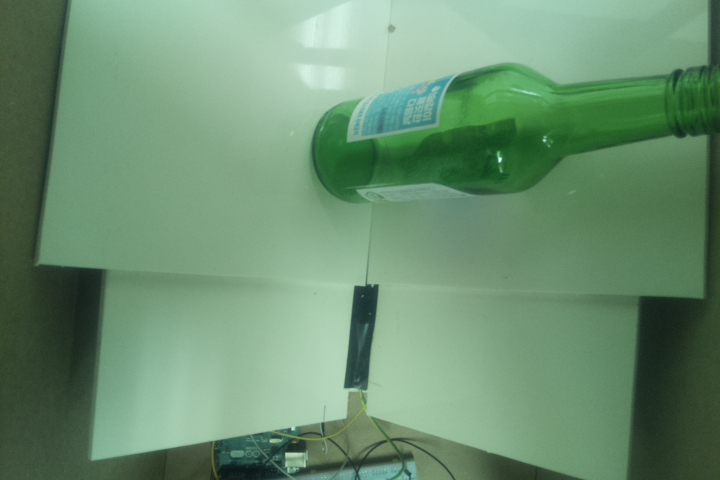soju: (307, 58, 720, 210)
